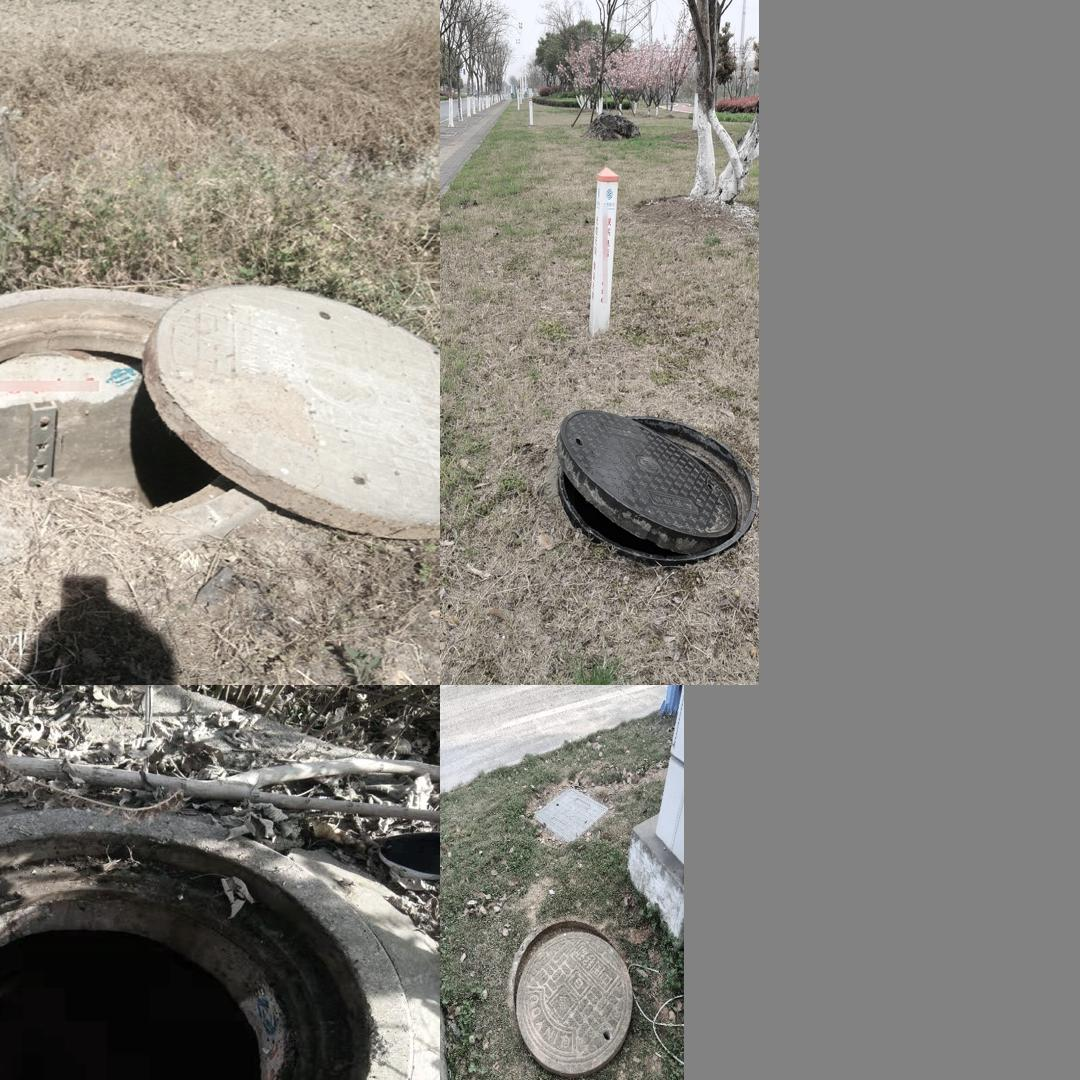uncovered: (0, 250, 440, 564), (0, 809, 411, 1080), (554, 407, 757, 566), (508, 913, 633, 1077)
